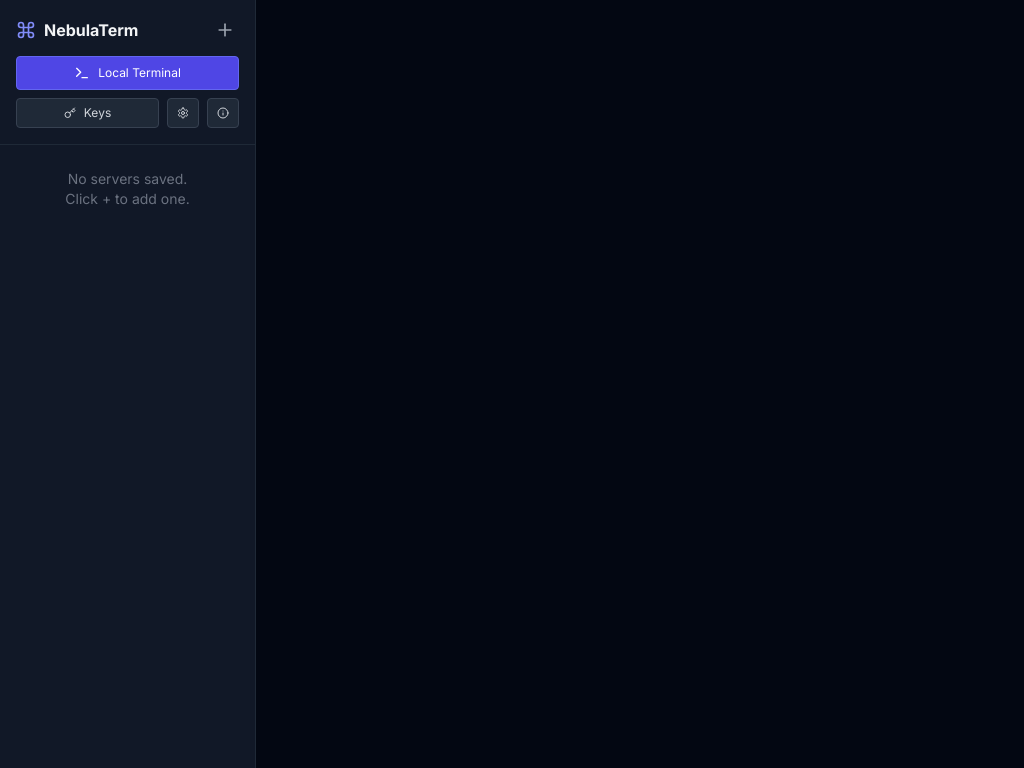
ServerList › shows SSH key selector when auth method is key
Click the button titled "Add Server". click: (225, 30)
box: [211,16,239,44]
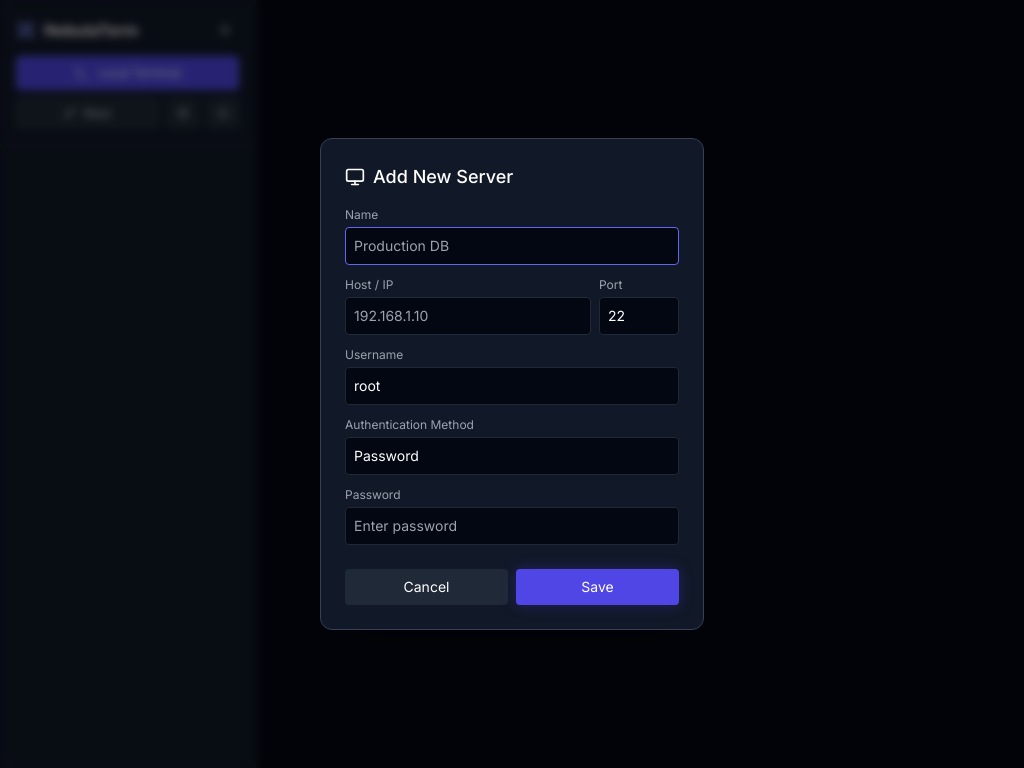
Select "SSH Key" in the dropdown showing "Password". click: (512, 456)
box: [345,437,679,475]
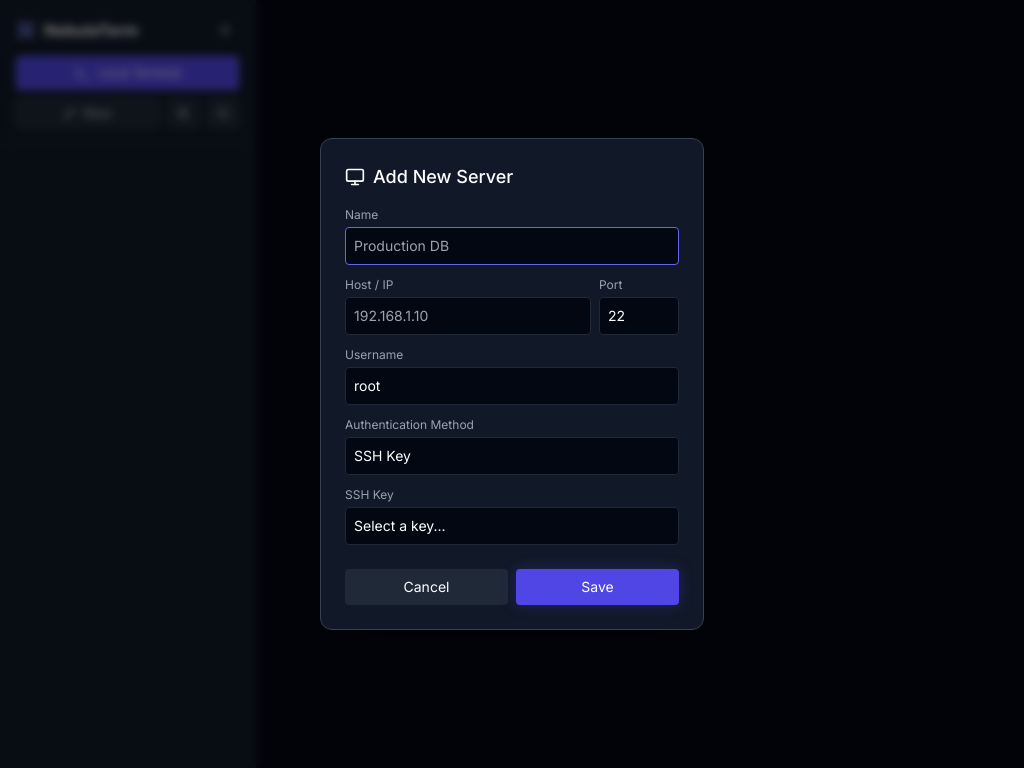
Expected: the password field with placeholder "Enter password" is gone
